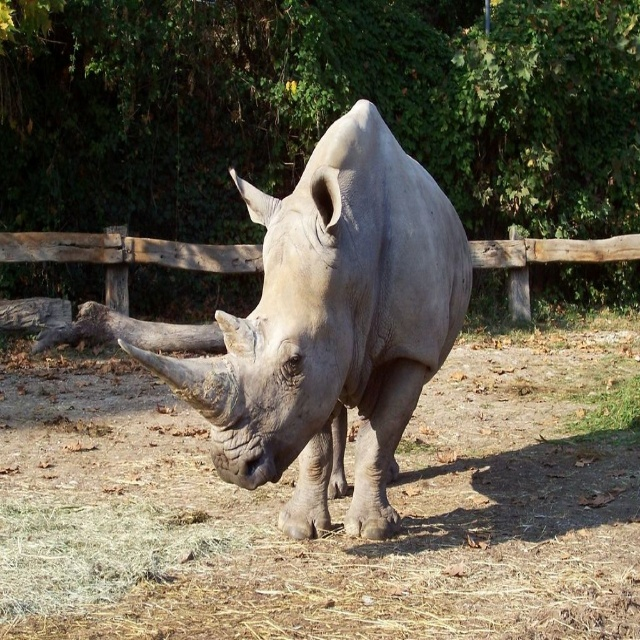Rhinoceros: (112, 89, 486, 553)
